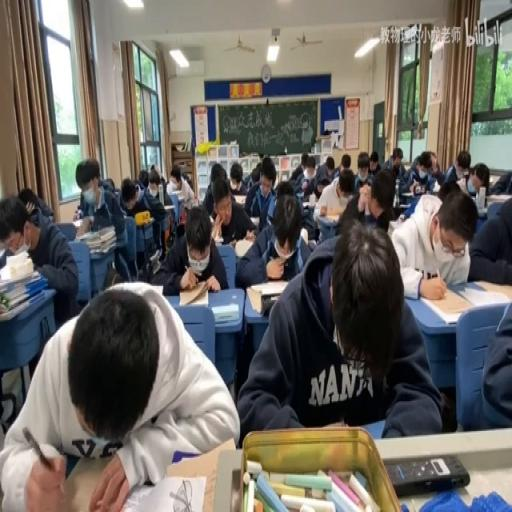calculator: (118, 471, 206, 512), (59, 456, 118, 512), (457, 278, 512, 308), (179, 279, 210, 304), (248, 279, 289, 296), (212, 302, 238, 324), (4, 242, 30, 260), (233, 236, 254, 258), (139, 282, 165, 296), (148, 248, 160, 270), (486, 192, 512, 202), (134, 213, 154, 226), (71, 215, 88, 230), (387, 218, 400, 234), (233, 193, 246, 205), (166, 184, 178, 196), (249, 215, 260, 226), (213, 233, 223, 245), (430, 181, 440, 192), (402, 160, 411, 170), (295, 191, 304, 199), (402, 191, 415, 196), (164, 204, 174, 210), (396, 202, 410, 206)
paper: (4, 282, 237, 508), (237, 218, 436, 440), (2, 194, 80, 334), (390, 185, 475, 294), (118, 174, 164, 268), (467, 191, 512, 287), (76, 158, 126, 243), (200, 175, 254, 247), (312, 168, 354, 234), (245, 155, 278, 228), (363, 169, 397, 233), (400, 149, 438, 199), (439, 148, 471, 186), (296, 193, 318, 242), (226, 158, 248, 192), (468, 162, 490, 196), (382, 147, 405, 179), (145, 165, 167, 198), (486, 168, 512, 195), (288, 152, 308, 186), (18, 188, 39, 214), (436, 178, 458, 199), (276, 179, 294, 199), (210, 163, 226, 185), (368, 151, 381, 175), (179, 166, 192, 190), (338, 178, 352, 199), (316, 181, 330, 199), (101, 176, 115, 192), (138, 168, 148, 189), (251, 160, 261, 180), (340, 152, 350, 172), (411, 154, 421, 174), (305, 160, 315, 176), (358, 158, 368, 173), (426, 156, 436, 170), (325, 158, 334, 173)
person: (384, 452, 468, 496), (261, 292, 281, 316)
